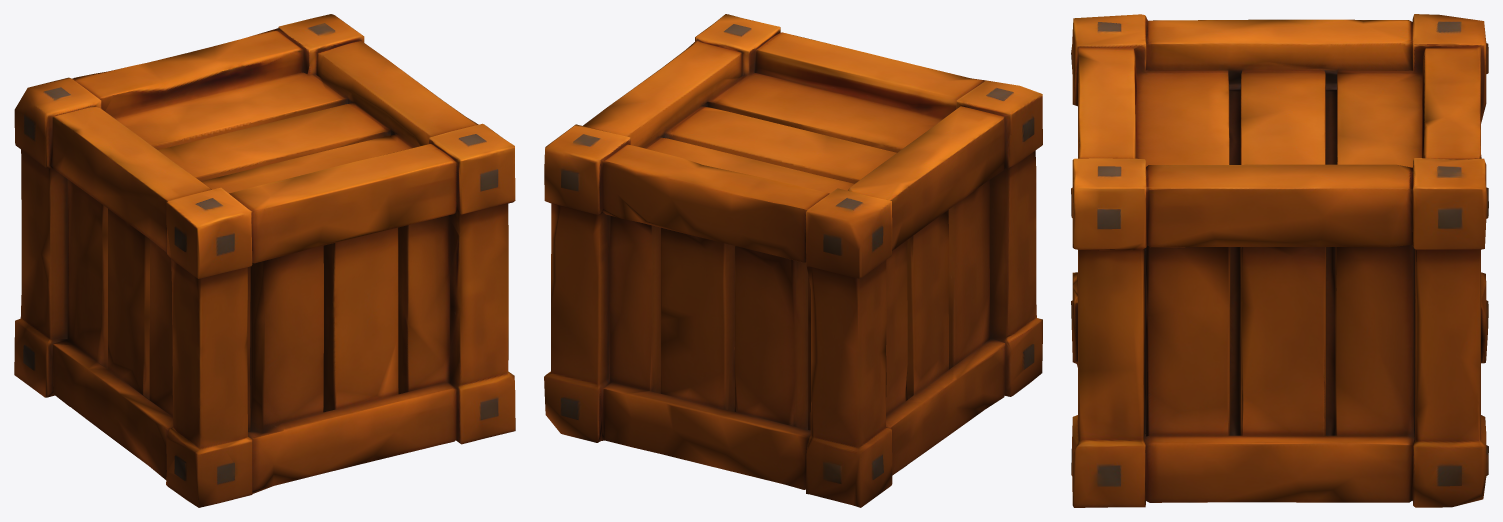
The model's file is wooden-crate.glb.
3 renders of one model, left to right at view 1: azimuth 30°, elevation 25°; view 2: azimuth 150°, elevation 25°; view 3: azimuth 270°, elevation 25°, orthographic. The views are drawn at different scales.
Parts seen in each view (by area): view 1: tripo_node_579a3538-e934-4930-9885-0c03b6f7f970; view 2: tripo_node_579a3538-e934-4930-9885-0c03b6f7f970; view 3: tripo_node_579a3538-e934-4930-9885-0c03b6f7f970.
Part boxes in pixels (x1=…): tripo_node_579a3538-e934-4930-9885-0c03b6f7f970: x1=14, y1=14, x2=515, y2=507; tripo_node_579a3538-e934-4930-9885-0c03b6f7f970: x1=544, y1=14, x2=1042, y2=507; tripo_node_579a3538-e934-4930-9885-0c03b6f7f970: x1=1071, y1=14, x2=1488, y2=507.
Bounding box in the file's own units: 0.55 × 0.4702 × 0.549.
Materials: 1 (1 with a texture image).
